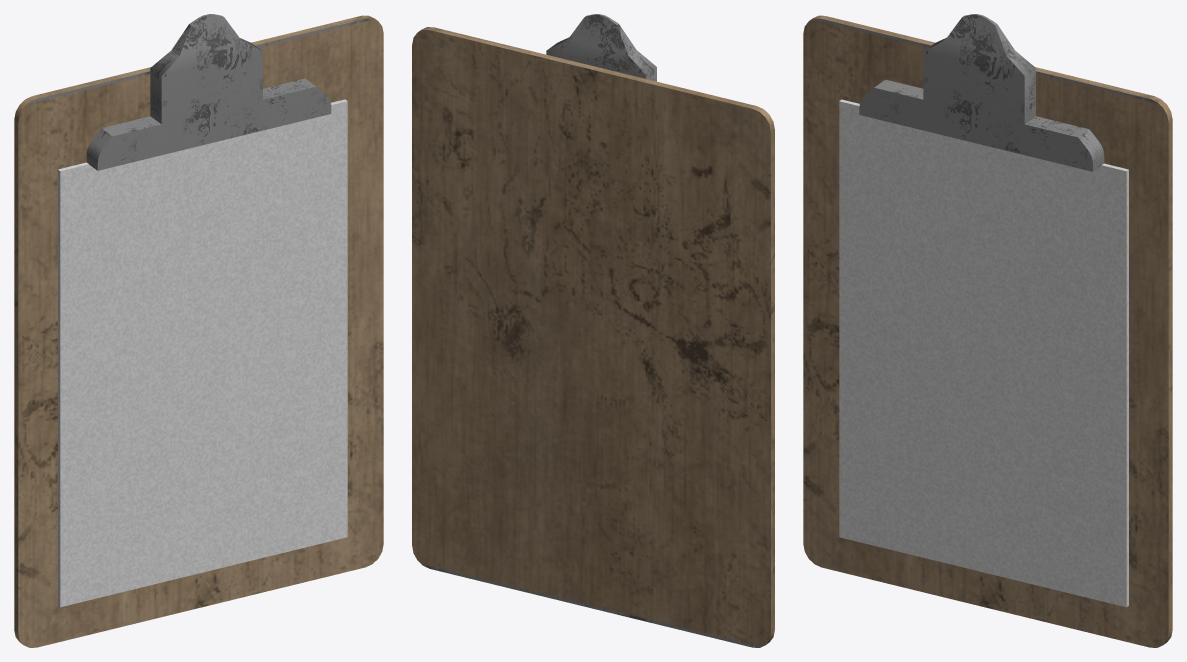
The model's file is clipboard.fbx.
3 views of the same model, side by side, from view 1: azimuth 30°, elevation 25°; view 2: azimuth 150°, elevation 25°; view 3: azimuth 330°, elevation 25° (orthographic).
Parts seen in each view (by area): view 1: clipboard; view 2: clipboard; view 3: clipboard.
Part boxes in pixels (left/top/right/bottom): clipboard: left=14, top=14, right=383, bottom=647; clipboard: left=412, top=14, right=774, bottom=647; clipboard: left=803, top=14, right=1172, bottom=647.
Size of the model in its own units: 0.4016 by 0.6269 by 0.0299.
Materials: 1 (1 with a texture image).
